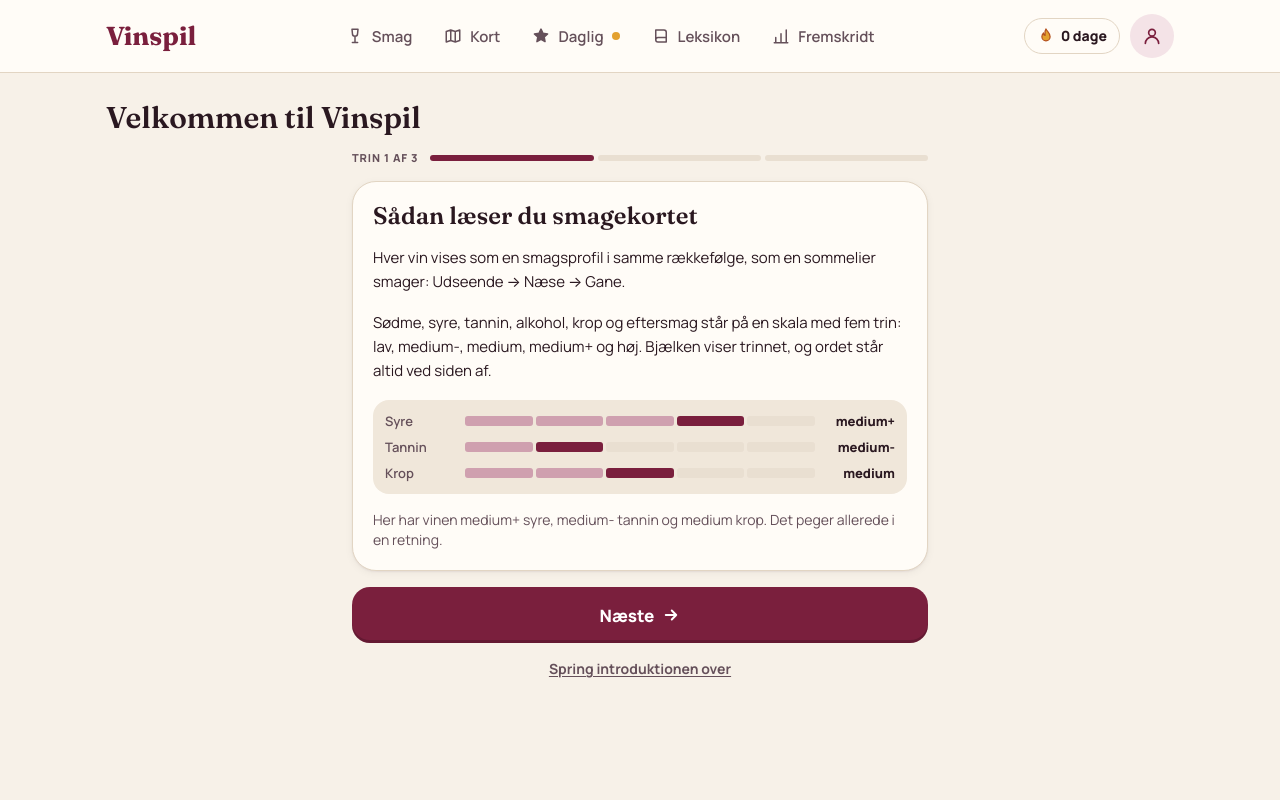
Test: onboarding › can be skipped
What coordinates should you click on to do the following:
click the button "Spring introduktionen over"
I would click on:
 (640, 669)
Its box is left=549, top=659, right=731, bottom=679.
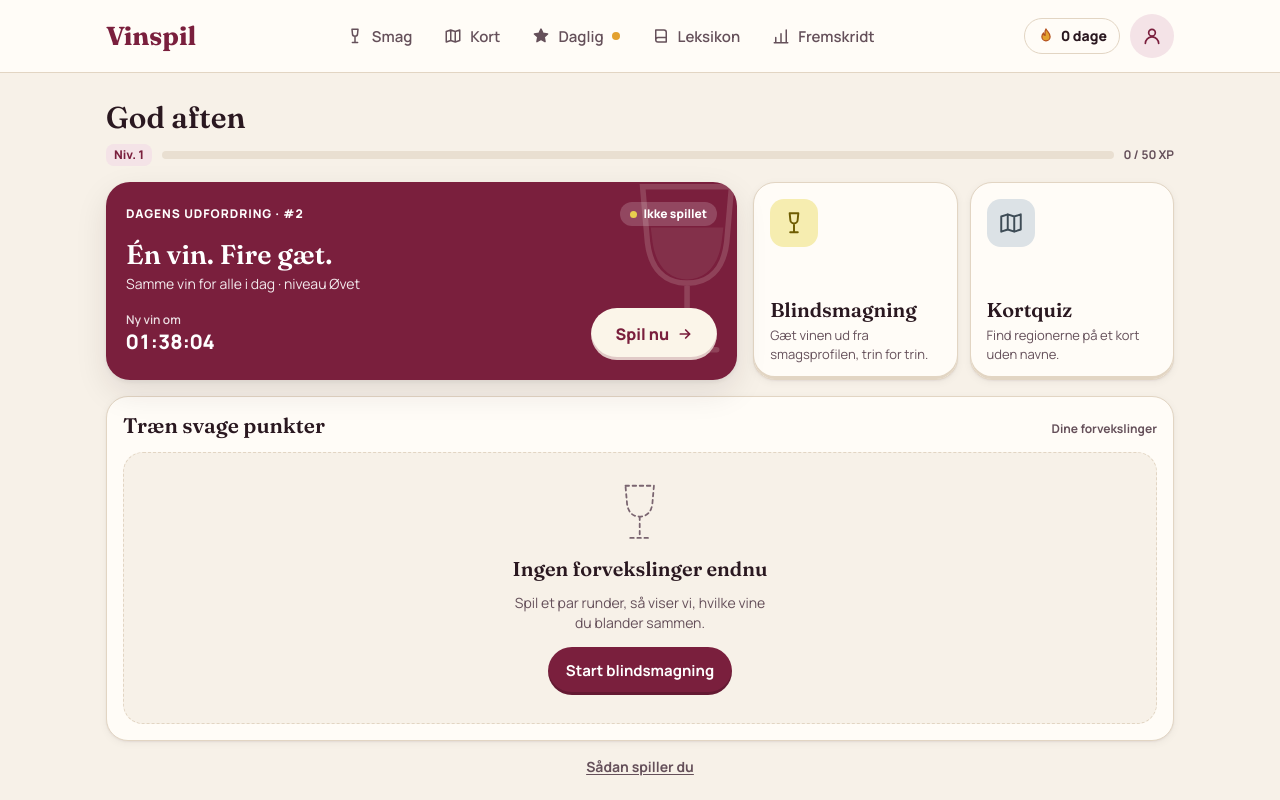
expect the button "Sådan spiller du" is shown: met, box left=586, top=757, right=694, bottom=777
